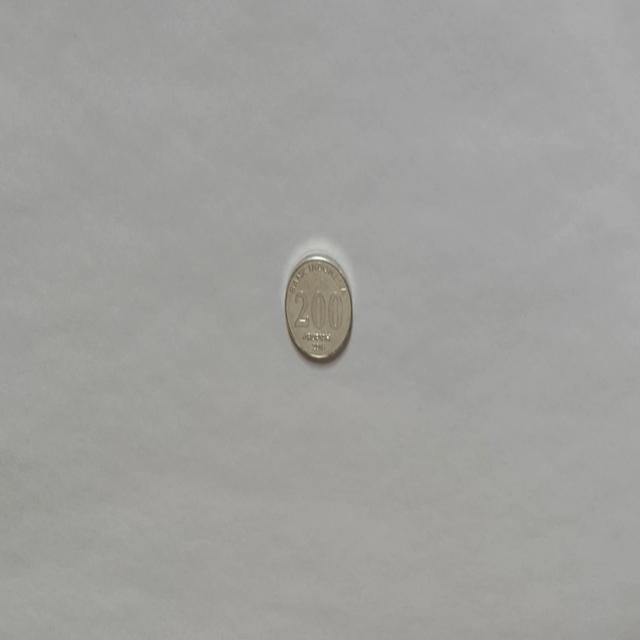dua ratus rupiah: (283, 252, 353, 362)
